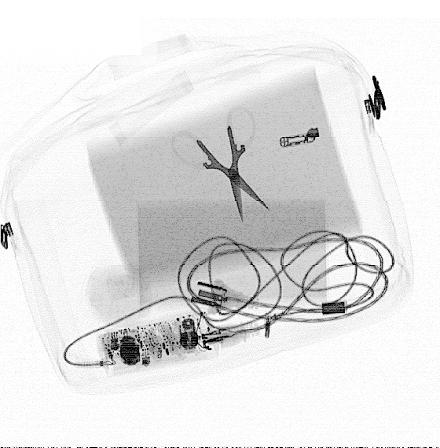Scissors: (170, 104, 270, 226)
